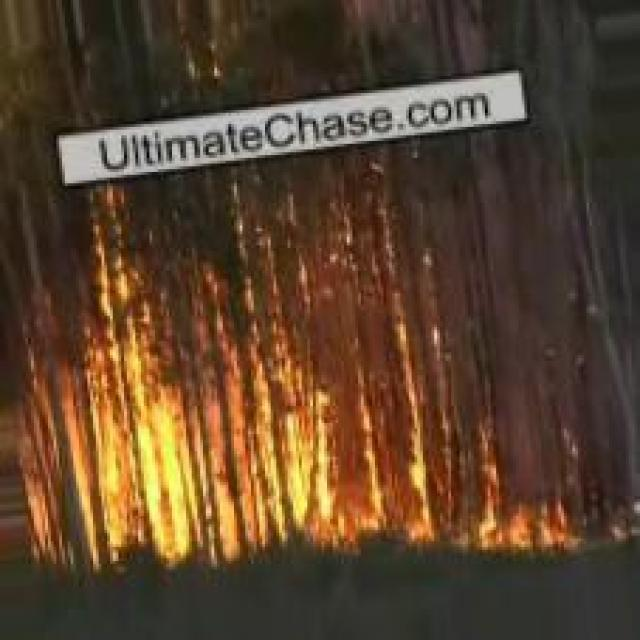fire: (12, 199, 598, 566)
